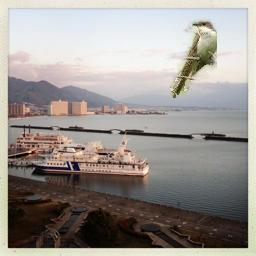Cuckoo: (171, 20, 218, 99)
